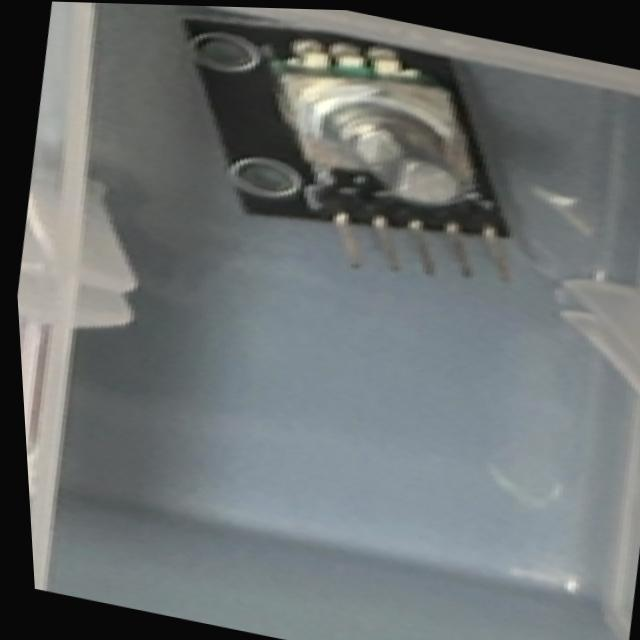Rotary Encoder: (134, 4, 570, 304)
